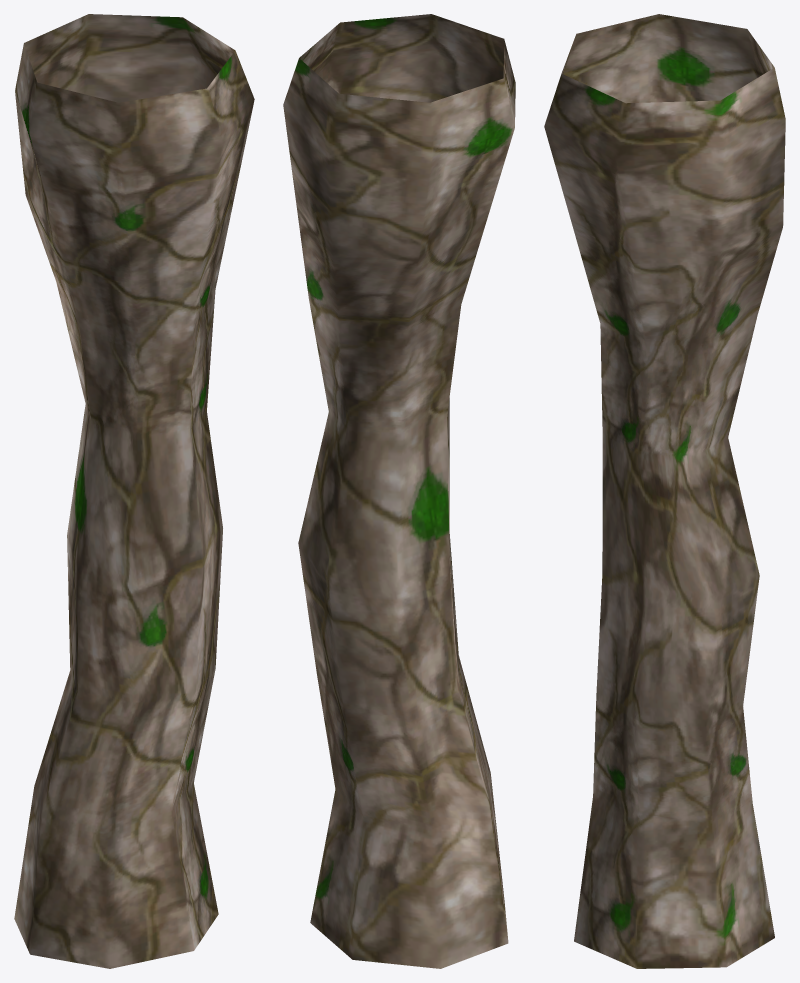
Rendered from EKH_GROTTO_PS_GR_LINE195.obj.
The picture shows the model from 3 angles, left to right: view 1: azimuth 30°, elevation 25°; view 2: azimuth 150°, elevation 25°; view 3: azimuth 270°, elevation 25°; orthographic projection.
Parts seen in each view (by area): view 1: GR_Line195; view 2: GR_Line195; view 3: GR_Line195.
Boxes of the visible parts, left/top/right/bottom form: GR_Line195: left=14, top=14, right=254, bottom=968; GR_Line195: left=283, top=14, right=515, bottom=968; GR_Line195: left=544, top=14, right=785, bottom=968.
Bounding box in the file's own units: 271 × 1099 × 274.
